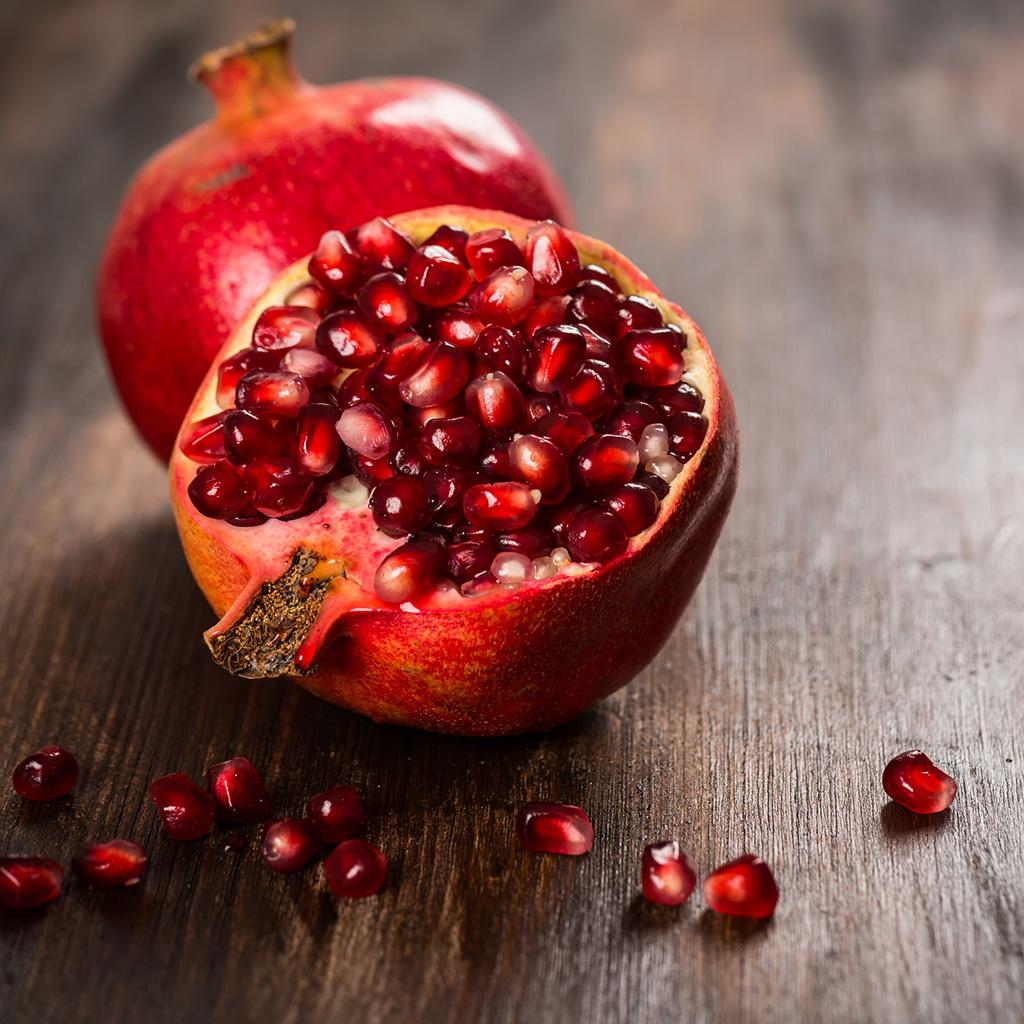peas: (881, 749, 957, 815)
pomegranate: (94, 17, 575, 468), (702, 853, 779, 919), (148, 772, 215, 840), (205, 756, 269, 823), (516, 801, 593, 856), (11, 744, 80, 801), (72, 837, 148, 887), (324, 838, 387, 898), (640, 839, 696, 906), (305, 784, 365, 842), (0, 854, 63, 908), (260, 817, 319, 872)
sweetpotato: (165, 202, 740, 738)
